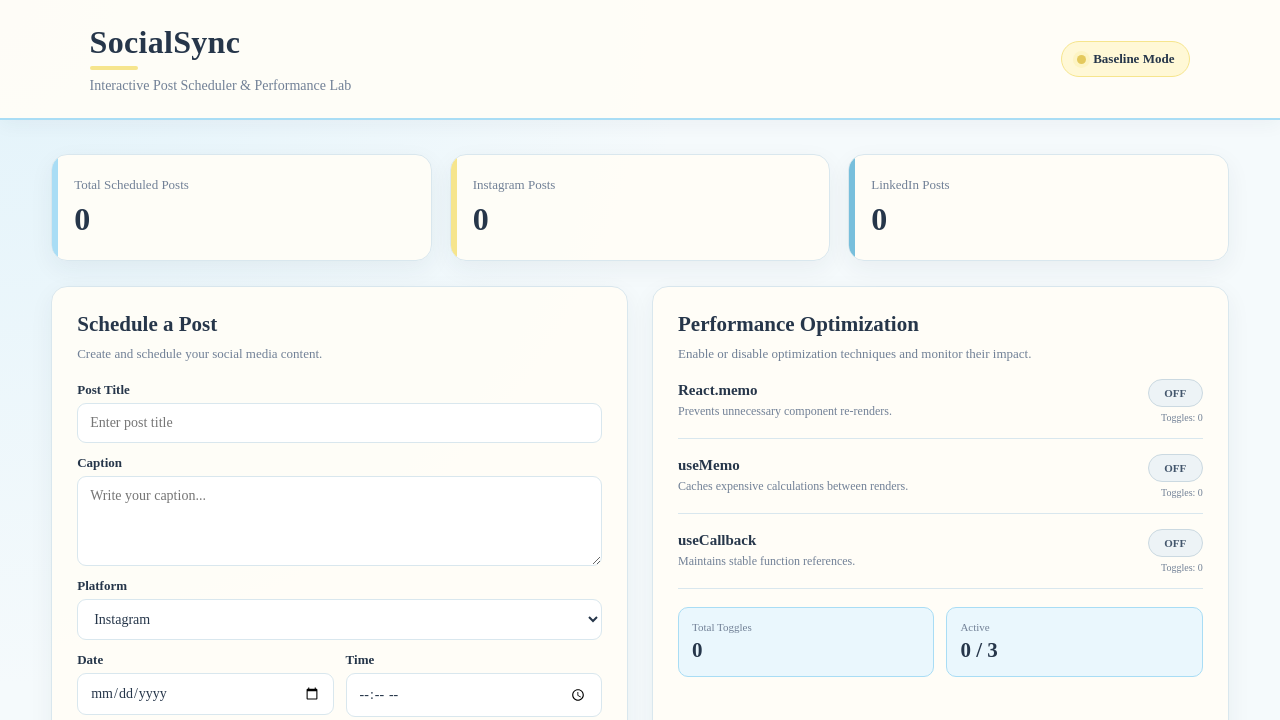
Test: SocialSync Application › toggles React.memo optimization
This screenshot has width=1280, height=720.
Click the button "OFF" in the row of "React.memo" at (1175, 392), box left=1148, top=378, right=1203, bottom=406
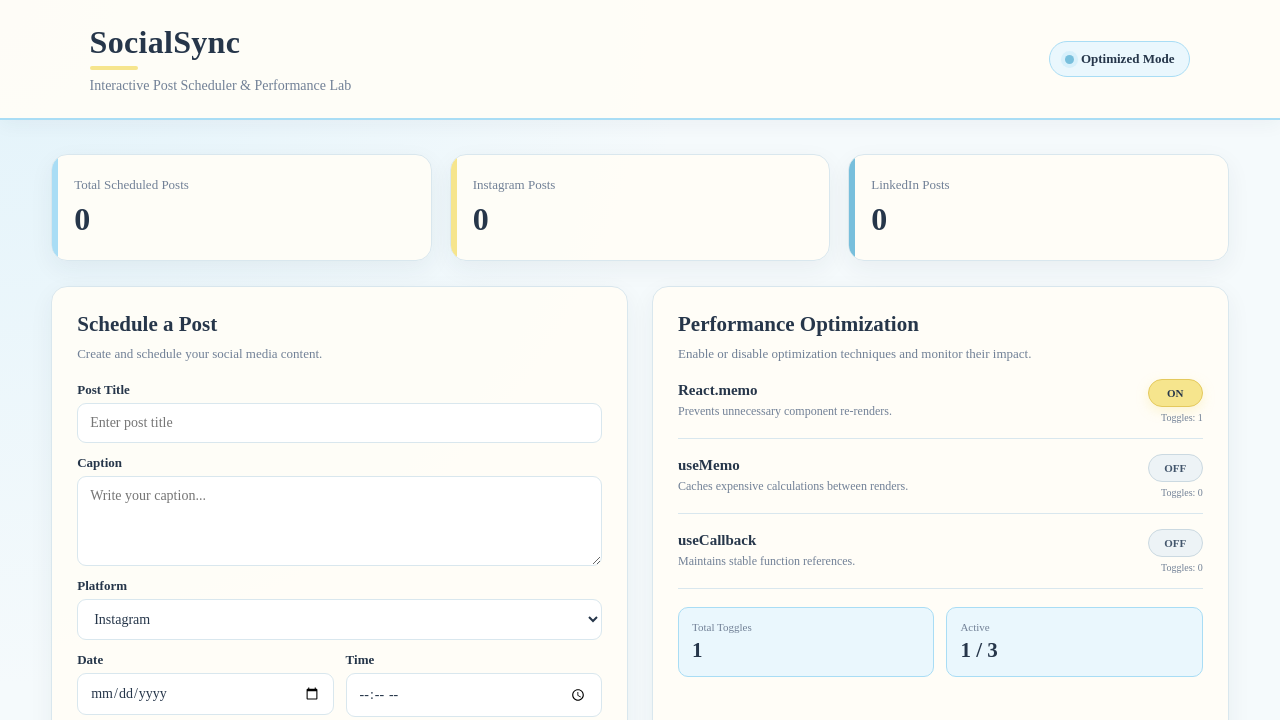
Expected: the text "Optimized Mode" is shown, left=1049, top=41, right=1190, bottom=77
